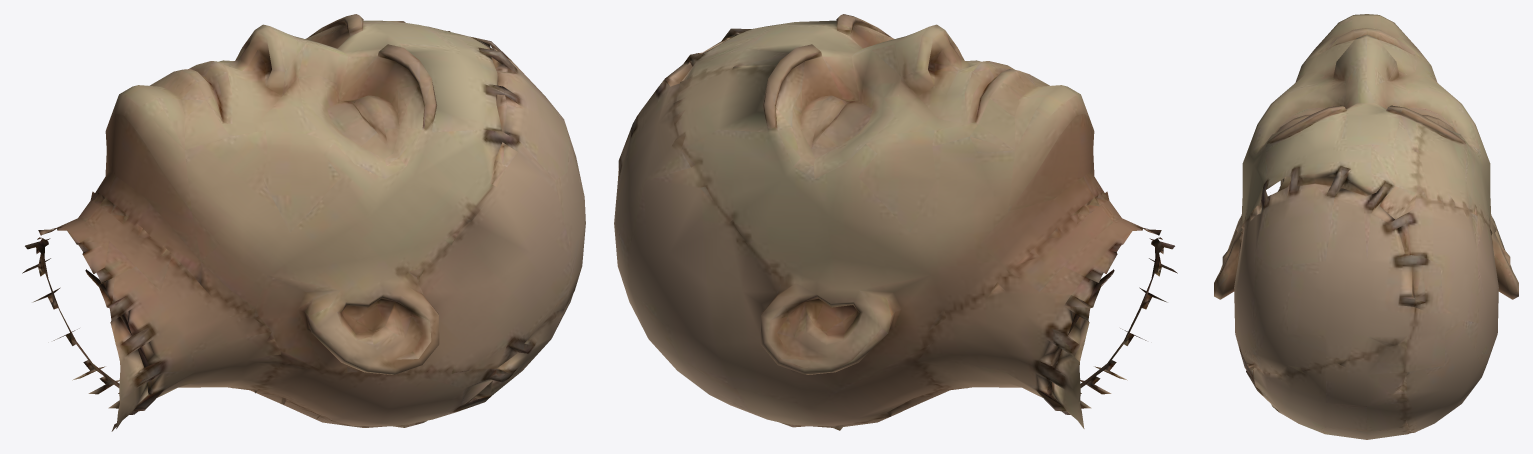
Rendered from head-skin.glb.
The picture shows the model from 3 angles, left to right: view 1: azimuth 30°, elevation 25°; view 2: azimuth 150°, elevation 25°; view 3: azimuth 270°, elevation 25°; orthographic projection. The views are drawn at different scales.
Parts seen in each view (by area): view 1: tripo_node_958b1e95-7f0e-4455-85f2-a0771; view 2: tripo_node_958b1e95-7f0e-4455-85f2-a0771; view 3: tripo_node_958b1e95-7f0e-4455-85f2-a0771.
Part boxes in pixels (x1,y1,x2,y2): tripo_node_958b1e95-7f0e-4455-85f2-a0771: (22, 14, 585, 431); tripo_node_958b1e95-7f0e-4455-85f2-a0771: (614, 14, 1177, 430); tripo_node_958b1e95-7f0e-4455-85f2-a0771: (1214, 14, 1518, 439).
Bounding box in the file's own units: 0.0459 × 0.0365 × 0.0297.
1 material, 1 textured.
